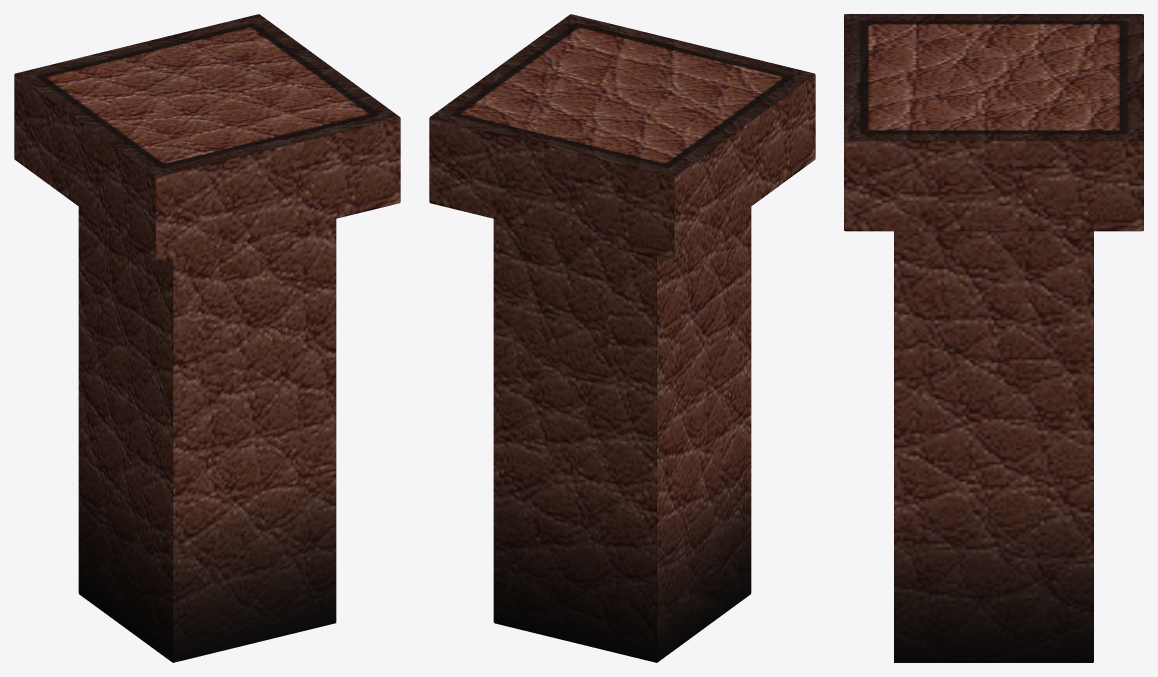
The model's file is pedestal.obj.
3 renders of one model, left to right at view 1: azimuth 30°, elevation 25°; view 2: azimuth 150°, elevation 25°; view 3: azimuth 270°, elevation 25°, orthographic. The views are drawn at different scales.
Parts seen in each view (by area): view 1: cuboid; view 2: cuboid; view 3: cuboid.
Part boxes in pixels (x1,y1,x2,y2): cuboid: [14, 14, 400, 662]; cuboid: [429, 14, 815, 662]; cuboid: [844, 14, 1143, 662].
Size of the model in its own units: 0.1875 by 0.375 by 0.1875.
